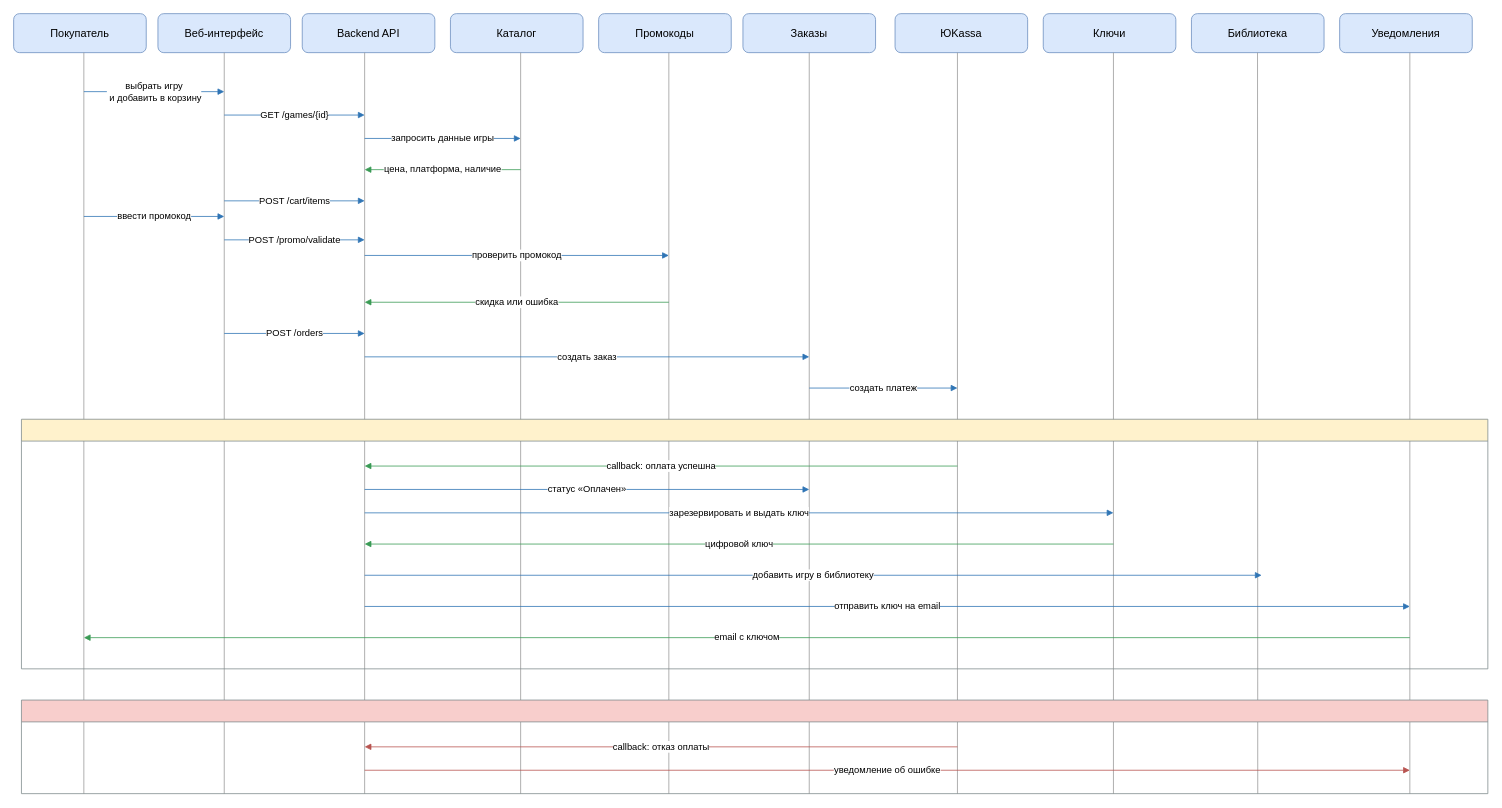
The diagram is 1502 pixels wide and 808 high, and some of its shapes have lost their labels. The centre of each missing label's shape, as x and y in pixels:
"alt: оплата подтверждена" belongs at point (754, 543).
"else: оплата отклонена" belongs at point (754, 746).
